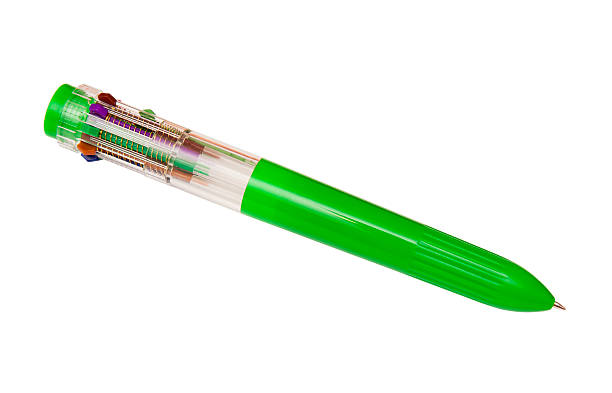pen: (37, 75, 576, 326)
